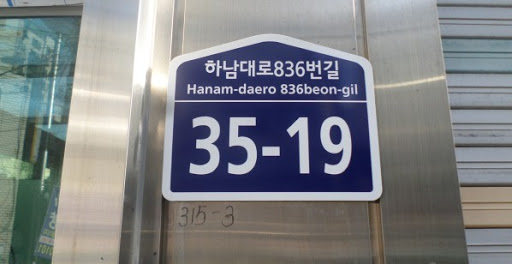building_license_plate1: (161, 32, 384, 203)
